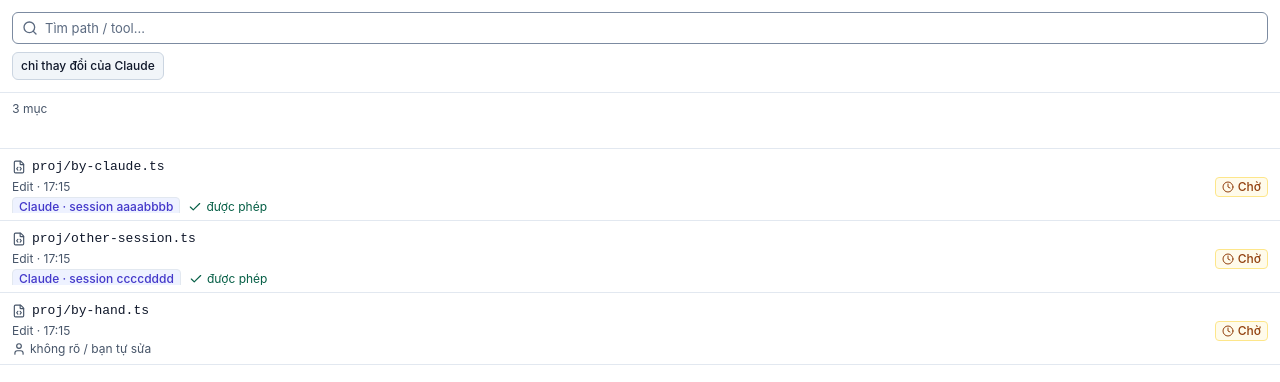
Test case: <EditListPanel /> source labels and filters › the toggle keeps only Claude changes
The width and height of the screenshot is (1280, 382).
Expected: the text "proj/by-hand.ts" is shown, [32, 301, 149, 321]
Click the button "chỉ thay đổi của Claude": (88, 66) [12, 52, 164, 80]
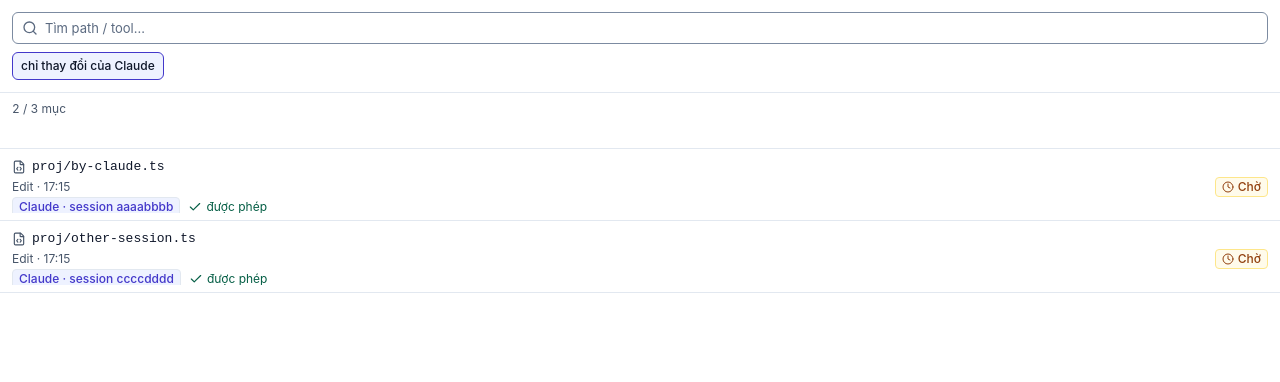
Expected: the text "proj/by-claude.ts" is shown, [32, 157, 165, 177]
Expected: the option "by-hand.ts" is gone
